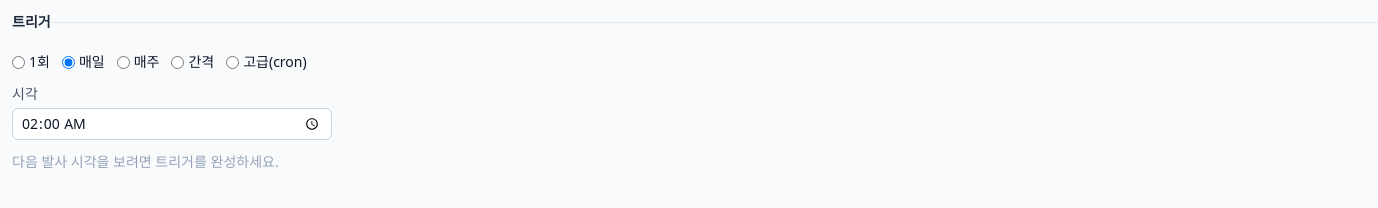
Test case: TriggerBuilder › shows preview-next results
Click the radio button labelled "간격".
click(178, 62)  # box [171,56,184,68]
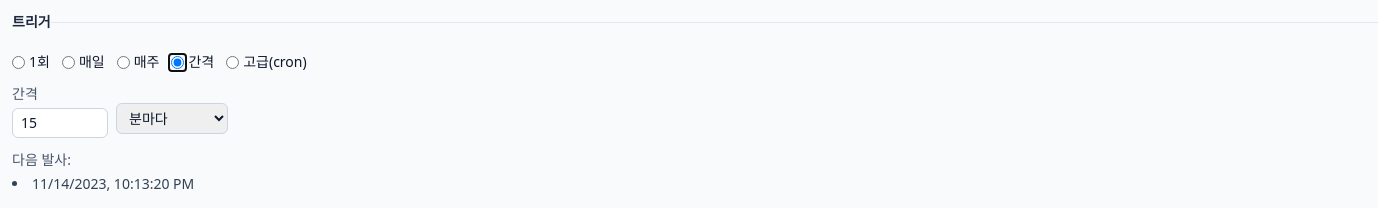
Expected: the text "다음 발사:" is shown, [12,150,71,169]
